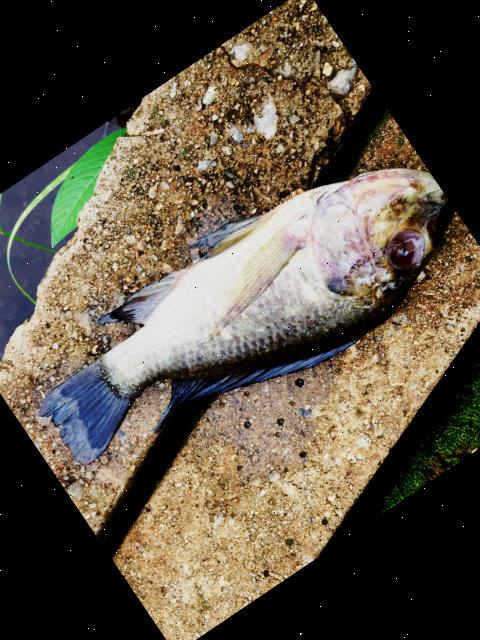Aeromonas Septicemia: (38, 165, 452, 462)
